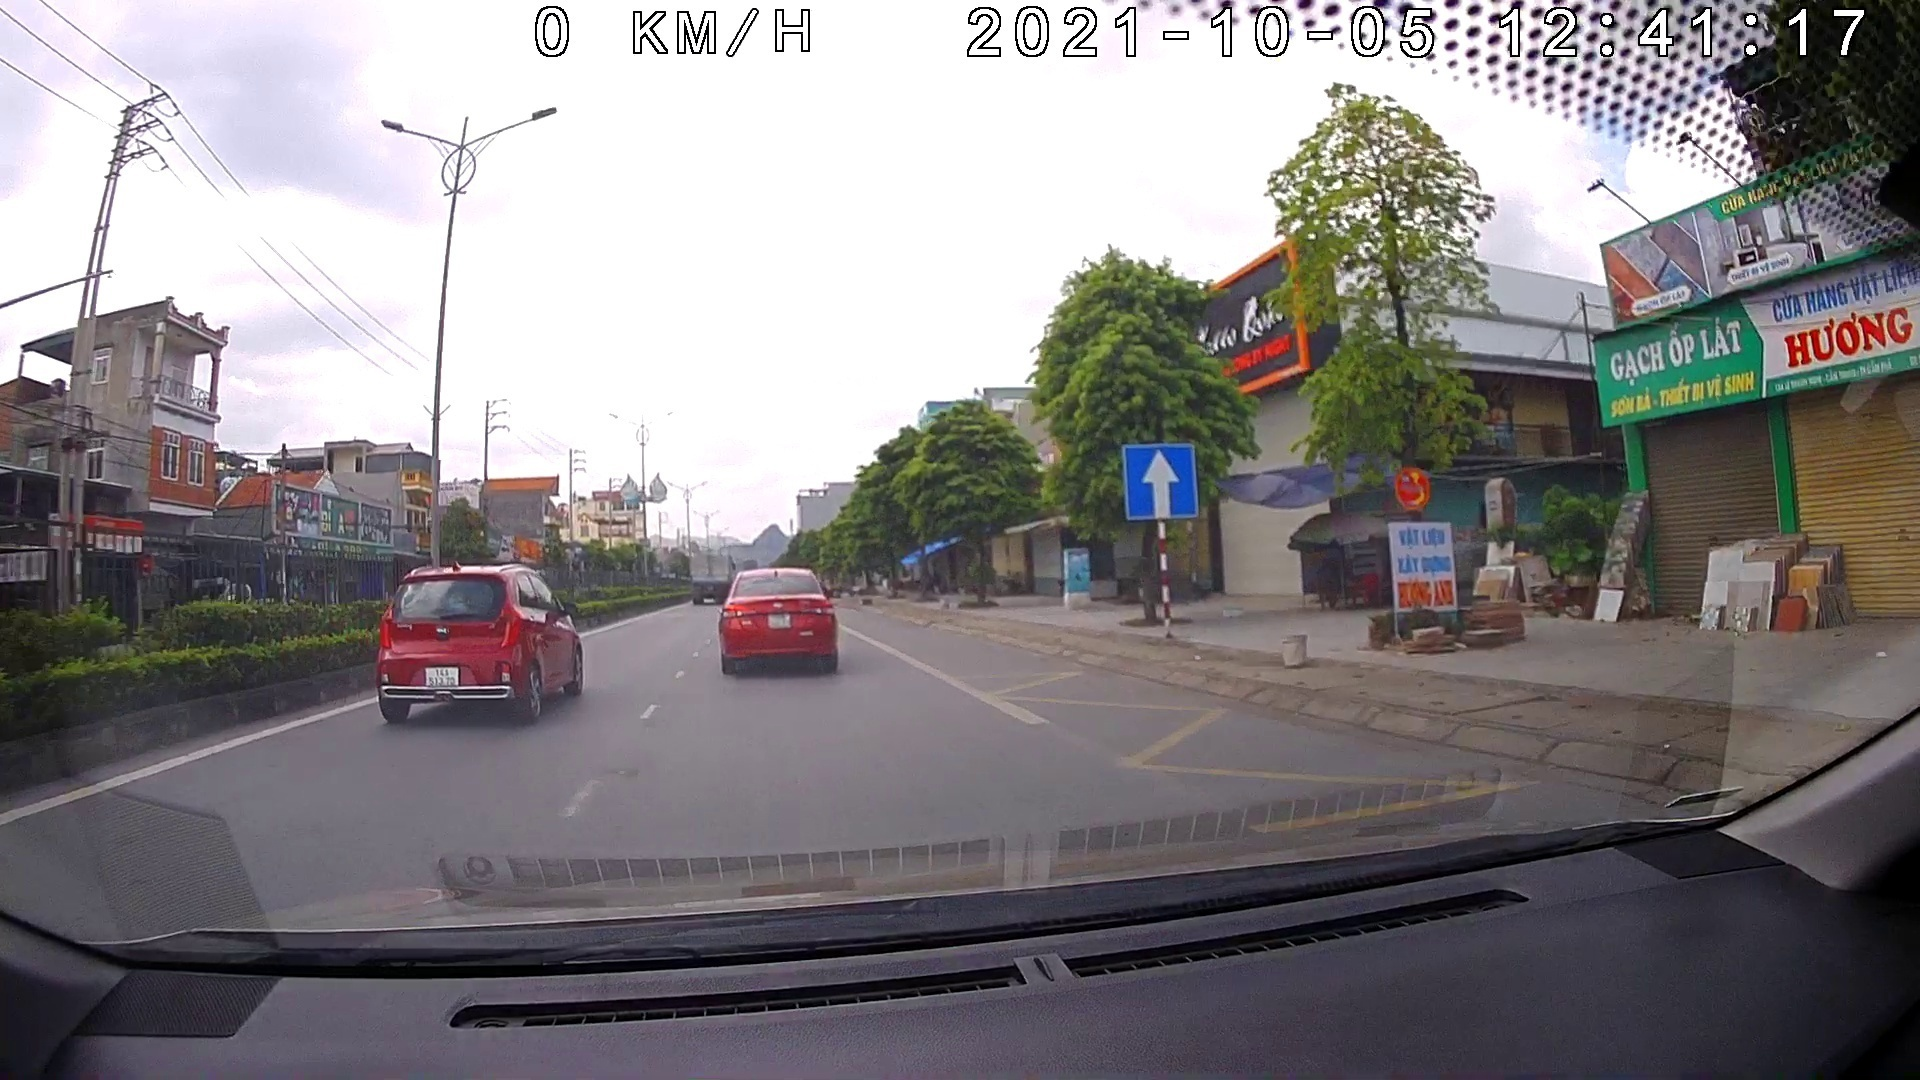Bien khac: (1124, 440, 1197, 521)
